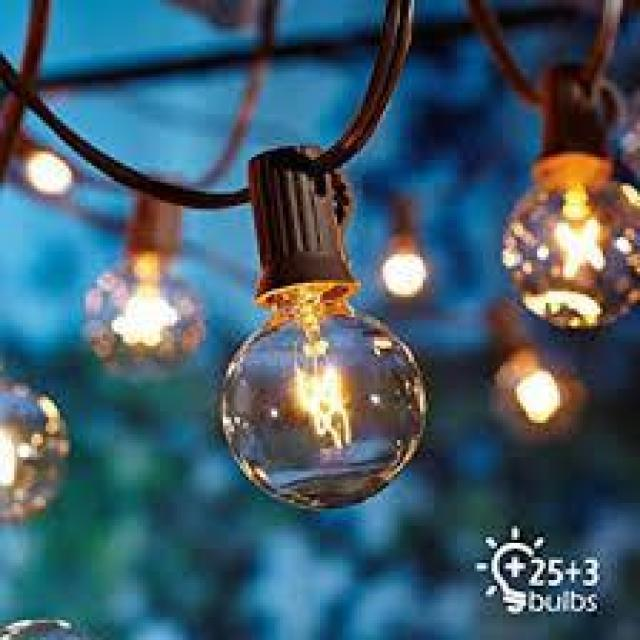other: (538, 190, 602, 318), (284, 354, 352, 436), (506, 355, 570, 426), (99, 292, 177, 342), (0, 424, 23, 493), (388, 252, 422, 298)
